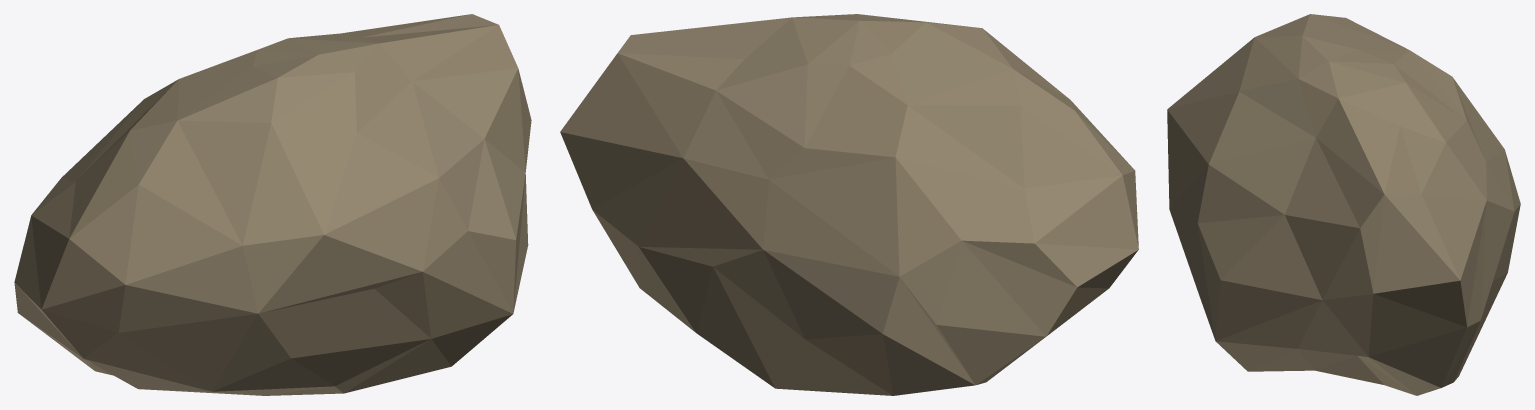
Rendered from MediumRock_4.fbx.
3 views of the same model, side by side, from view 1: azimuth 30°, elevation 25°; view 2: azimuth 150°, elevation 25°; view 3: azimuth 270°, elevation 25° (orthographic). The views are drawn at different scales.
Parts seen in each view (by area): view 1: MediumRock_4; view 2: MediumRock_4; view 3: MediumRock_4.
Boxes of the visible parts, <box> form: MediumRock_4: <box>14,14,531,395</box>; MediumRock_4: <box>560,14,1138,395</box>; MediumRock_4: <box>1167,14,1520,395</box>.
Bounding box in the file's own units: 74.15 × 45.66 × 47.46.
